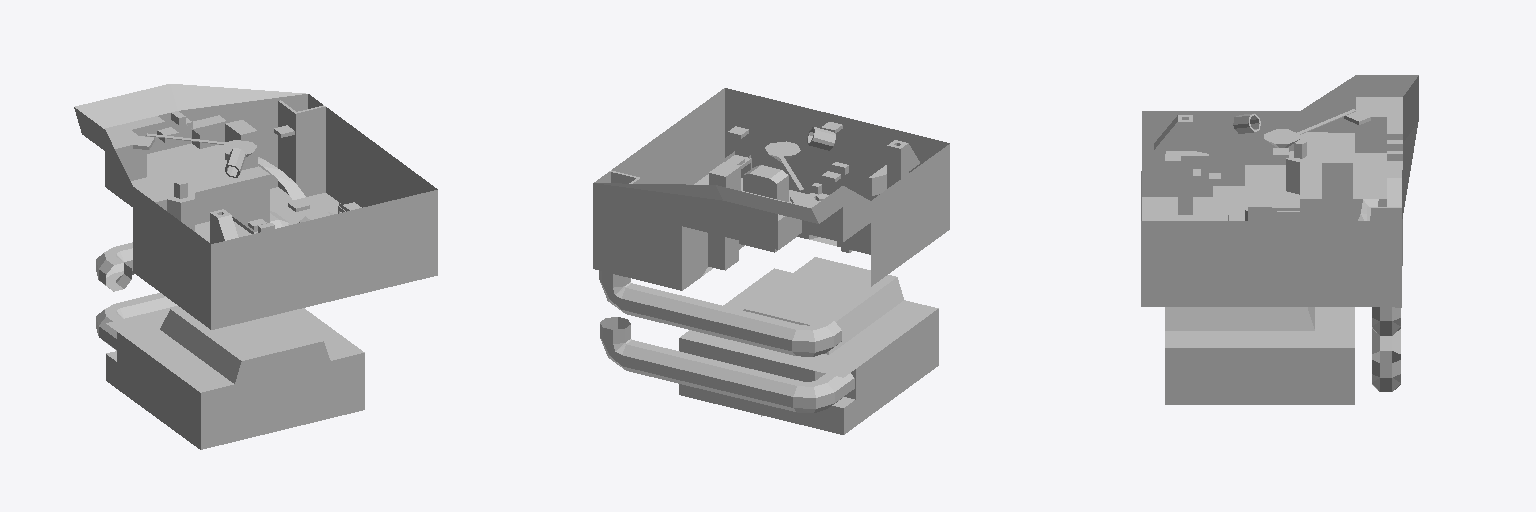
File: wetdryworld.obj
3 renders of one model, left to right at view 1: azimuth 30°, elevation 25°; view 2: azimuth 150°, elevation 25°; view 3: azimuth 270°, elevation 25°, orthographic.
Parts seen in each view (by area): view 1: 5, 10, 9, 2, 1, 14, 12, 8; view 2: 5, 10, 1, 9, 8, 4, 14; view 3: 5, 10, 2, 9, 1, 12, 14, 4, 8.
Boxes of the visible parts, x1,y1,x2,y2 form: 5: [105, 94, 437, 392]; 10: [96, 187, 364, 449]; 9: [74, 84, 308, 228]; 2: [105, 111, 278, 221]; 1: [115, 113, 288, 231]; 14: [225, 100, 325, 233]; 12: [195, 157, 305, 242]; 8: [225, 148, 333, 222]; 5: [593, 88, 949, 416]; 10: [599, 178, 938, 434]; 1: [682, 174, 886, 290]; 9: [597, 122, 869, 223]; 8: [743, 127, 835, 201]; 4: [739, 143, 919, 252]; 14: [609, 162, 740, 190]; 5: [1141, 111, 1402, 347]; 10: [1142, 197, 1400, 404]; 2: [1166, 97, 1402, 206]; 9: [1165, 75, 1418, 218]; 1: [1166, 116, 1402, 220]; 12: [1213, 165, 1378, 220]; 14: [1248, 154, 1401, 220]; 4: [1154, 117, 1299, 220]; 8: [1205, 113, 1260, 220].
Bounding box in the file's own units: 136 × 144 × 144.